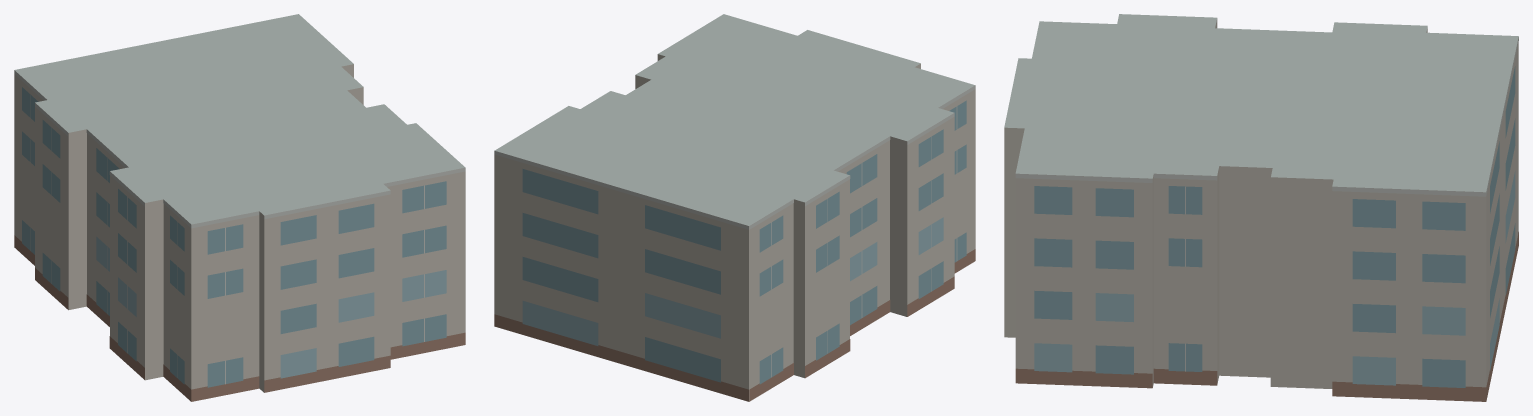
File: survey-upis-32657985.glb
The picture shows the model from 3 angles, left to right: view 1: azimuth 30°, elevation 25°; view 2: azimuth 150°, elevation 25°; view 3: azimuth 270°, elevation 25°; orthographic projection. The views are drawn at different scales.
Parts seen in each view (by area): view 1: survey-upis-32657985.tmp; view 2: survey-upis-32657985.tmp; view 3: survey-upis-32657985.tmp.
Part boxes in pixels (x1=…): survey-upis-32657985.tmp: x1=14, y1=14, x2=465, y2=401; survey-upis-32657985.tmp: x1=494, y1=14, x2=975, y2=401; survey-upis-32657985.tmp: x1=1004, y1=14, x2=1518, y2=401.
Size of the model in its own units: 20.61 by 11.3 by 25.15.
